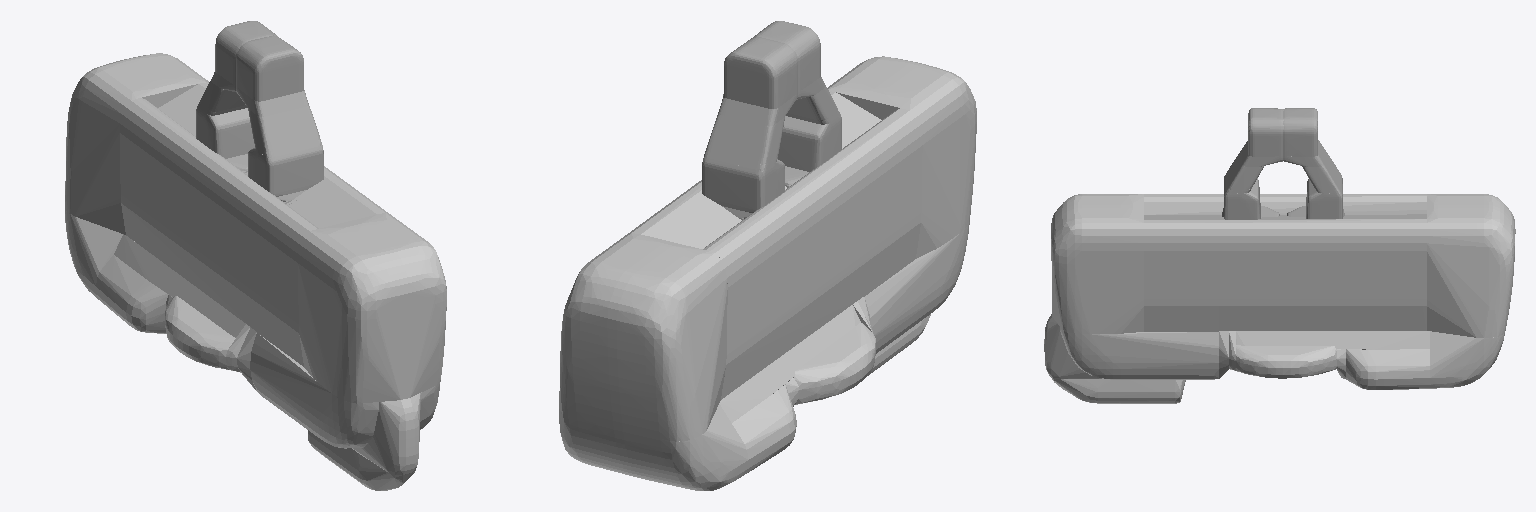
robot.urdf — panda:
<?xml version="1.0" ?>
<!-- source: https://github.com/robotlearn/pyrobolearn/blob/master/pyrobolearn/robots/urdfs/franka/franka.urdf -->
<!-- =================================================================================== -->
<!-- |    This document was autogenerated by xacro from panda_arm_hand.urdf.xacro      | -->
<!-- |    EDITING THIS FILE BY HAND IS NOT RECOMMENDED                                 | -->
<!-- =================================================================================== -->
<robot name="panda" xmlns:xacro="http://www.ros.org/wiki/xacro">
  <material name="black">
    <color rgba="0.0 0.0 0.0 1"/>
  </material>
  <material name="white">
    <color rgba="0.8 0.8 0.8 1"/>
  </material>
  <material name="dark_gray">
    <color rgba="0.3 0.3 0.3 1"/>
  </material>
  <material name="gray">
    <color rgba="0.5 0.5 0.5 1"/>
  </material>
  <material name="light_gray">
    <color rgba="0.7 0.7 0.7 1"/>
  </material>
  <material name="pure_red">
    <color rgba="1.0 0.0 0.0 1"/>
  </material>
  <material name="red">
    <color rgba="0.5 0.1 0.2 1"/>
  </material>
  <material name="pure_green">
    <color rgba="0.0 1.0 0.0 1"/>
  </material>
  <material name="pure_blue">
    <color rgba="0.0 0.0 1.0 1"/>
  </material>
  <material name="blue">
    <color rgba="0.0 0.2 0.3 1"/>
  </material>

  <link name="world"/>
  <joint name="world_to_palm" type="fixed">
    <parent link="world"/>
    <child link="panda_hand"/>
    <origin rpy="0 0 0" xyz="0 0 -0.0584"/>
  </joint>

  <link name="panda_hand">
    <inertial> <!-- these inertia are calculated based on the visual meshes using Meshlab, and using a density of 1kg/m^3 (http://gazebosim.org/tutorials?tut=inertia) -->
      <mass value="1"/> <!-- volume = 0.000488 -->
      <origin xyz="-0.000007 0.001524 0.027591"/>
      <inertia ixx="0.00409836" ixy="0.000000" ixz="0.000000" iyy="0.00061475" iyz="0.000000" izz="0.00409836"/> <!-- divided by the volume, just need to be multiplied by the mass -->
    </inertial>
    <visual>
      <material name="white"/>
      <geometry>
        <mesh filename="meshes/visual/hand.obj"/>
      </geometry>
    </visual>
    <collision>
      <geometry>
        <mesh filename="meshes/collision/hand.obj"/>
      </geometry>
    </collision>
  </link>

  <link name="panda_leftfinger">
    <inertial> <!-- these inertia are calculated based on the visual meshes using Meshlab, and using a density of 1kg/m^3 (http://gazebosim.org/tutorials?tut=inertia) -->
      <mass value="1"/>
      <origin xyz="0.000002 0.014564 0.022794"/>
      <inertia ixx="0.00030727" ixy="0.000000" ixz="0.000000" iyy="0.00003018" iyz="0.00005455" izz="0.00007091"/> <!-- divided by the volume, just need to be multiplied by the mass -->
    </inertial>
    <visual>
      <material name="light_gray"/>
      <geometry>
        <mesh filename="meshes/visual/finger.obj"/>
      </geometry>
    </visual>
    <collision>
      <geometry>
        <mesh filename="meshes/visual/finger.obj"/>
      </geometry>
    </collision>
  </link>

  <joint name="panda_finger_joint1" type="prismatic">
    <parent link="panda_hand"/>
    <child link="panda_leftfinger"/>
    <origin rpy="0 0 0" xyz="0 0 0.0584"/>
    <axis xyz="0 1 0"/>
    <limit effort="20" lower="0.0" upper="0.04" velocity="0.2"/>
  </joint>

  <link name="left_finger_tip"/>
  <joint name="panda_left_finger_tip_joint" type="fixed">
    <parent link="panda_leftfinger"/>
    <child link="left_finger_tip"/>
    <origin rpy="0 0 0" xyz="0.0 0.002 0.052"/>
  </joint>

  <link name="panda_rightfinger">
    <inertial> <!-- these inertia are calculated based on the visual meshes using Meshlab, and using a density of 1kg/m^3 (http://gazebosim.org/tutorials?tut=inertia) -->
      <mass value="1"/> <!-- volume = 0.000011 -->
      <origin xyz="0.000002 0.014564 0.022794"/>
      <inertia ixx="0.00030727" ixy="0.000000" ixz="0.000000" iyy="0.00003018" iyz="0.00005455" izz="0.00007091"/> <!-- divided by the volume, just need to be multiplied by the mass -->
    </inertial>
    <visual>
      <material name="light_gray"/>
      <origin rpy="0 0 3.14159265359" xyz="0 0 0"/>
      <geometry>
        <mesh filename="meshes/visual/finger.obj"/>
      </geometry>
    </visual>
    <collision>
      <origin rpy="0 0 3.14159265359" xyz="0 0 0"/>
      <geometry>
        <mesh filename="meshes/visual/finger.obj"/>
      </geometry>
    </collision>
  </link>

  <joint name="panda_finger_joint2" type="prismatic">
    <parent link="panda_hand"/>
    <child link="panda_rightfinger"/>
    <origin rpy="0 0 0" xyz="0 0 0.0584"/>
    <axis xyz="0 -1 0"/>
    <limit effort="20" lower="0.0" upper="0.04" velocity="0.2"/>
    <mimic joint="panda_finger_joint1"/>
  </joint>

  <link name="right_finger_tip"/>
  <joint name="panda_right_finger_tip_joint" type="fixed">
    <parent link="panda_rightfinger"/>
    <child link="right_finger_tip"/>
    <origin rpy="0 0 0" xyz="0.0 0.002 0.052"/>
  </joint>

</robot>

--- Facts derived from the render (not from the file) ---
3 views of the same robot in one strip: view 1: azimuth 30°, elevation 25°; view 2: azimuth 150°, elevation 25°; view 3: azimuth 270°, elevation 25° (orthographic).
Robot: panda — 6 links, 5 joints (2 prismatic, 3 fixed); root link world; default pose: all joints at 0.
Links seen in each view (by area): view 1: panda_hand, panda_rightfinger, panda_leftfinger; view 2: panda_hand, panda_leftfinger, panda_rightfinger; view 3: panda_hand, panda_rightfinger, panda_leftfinger.
Boxes of the visible links, x1,y1,x2,y2 form: panda_hand: (65,53,446,490); panda_rightfinger: (236,35,323,203); panda_leftfinger: (196,21,277,172); panda_hand: (559,56,976,490); panda_leftfinger: (702,37,797,219); panda_rightfinger: (751,21,841,187); panda_hand: (1044,194,1515,403); panda_rightfinger: (1222,108,1283,219); panda_leftfinger: (1283,108,1344,218).
Bounding box of the posed robot: 0.0664 × 0.2077 × 0.141 m (x, y, z).
3 mesh visuals loaded from 2 distinct referenced files (2 OBJ).